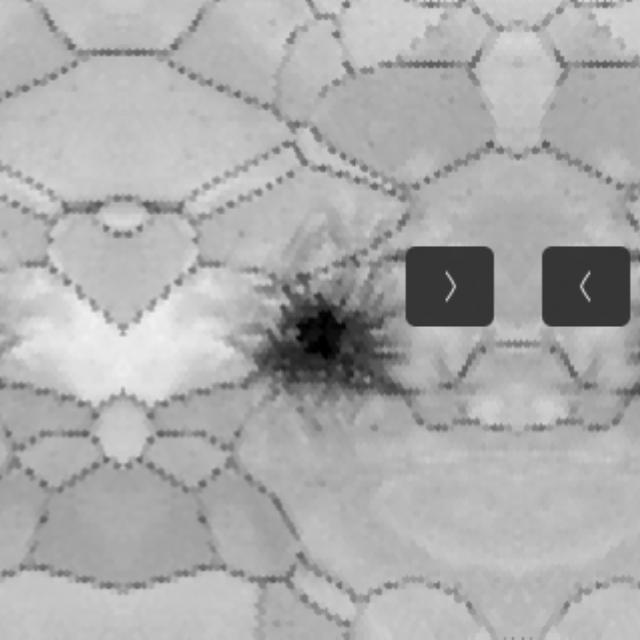good_void: (219, 253, 404, 438), (233, 228, 246, 242), (0, 228, 11, 241)
